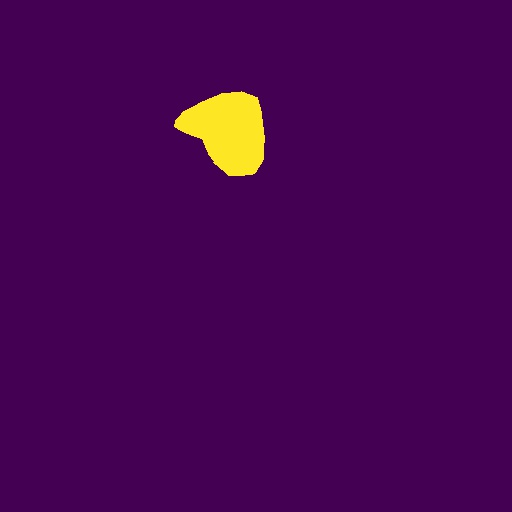Gliomia_tumour: (174, 91, 265, 176)
